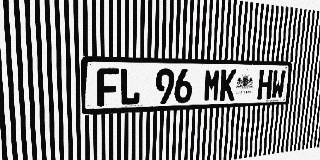6: (174, 69, 193, 103)
9: (155, 68, 175, 104)
F: (97, 68, 119, 107)
H: (257, 70, 273, 100)
K: (219, 69, 236, 101)
L: (120, 68, 140, 106)
M: (203, 69, 221, 102)
W: (271, 70, 286, 99)
